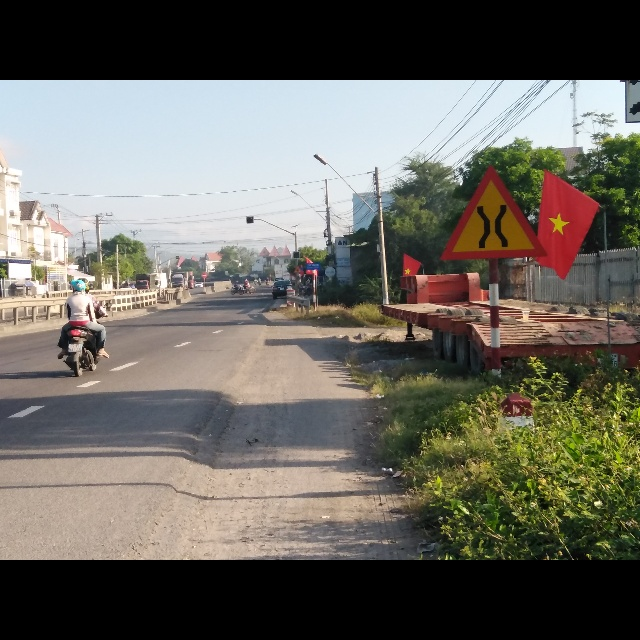Cầu hẹp: (440, 160, 546, 261)
